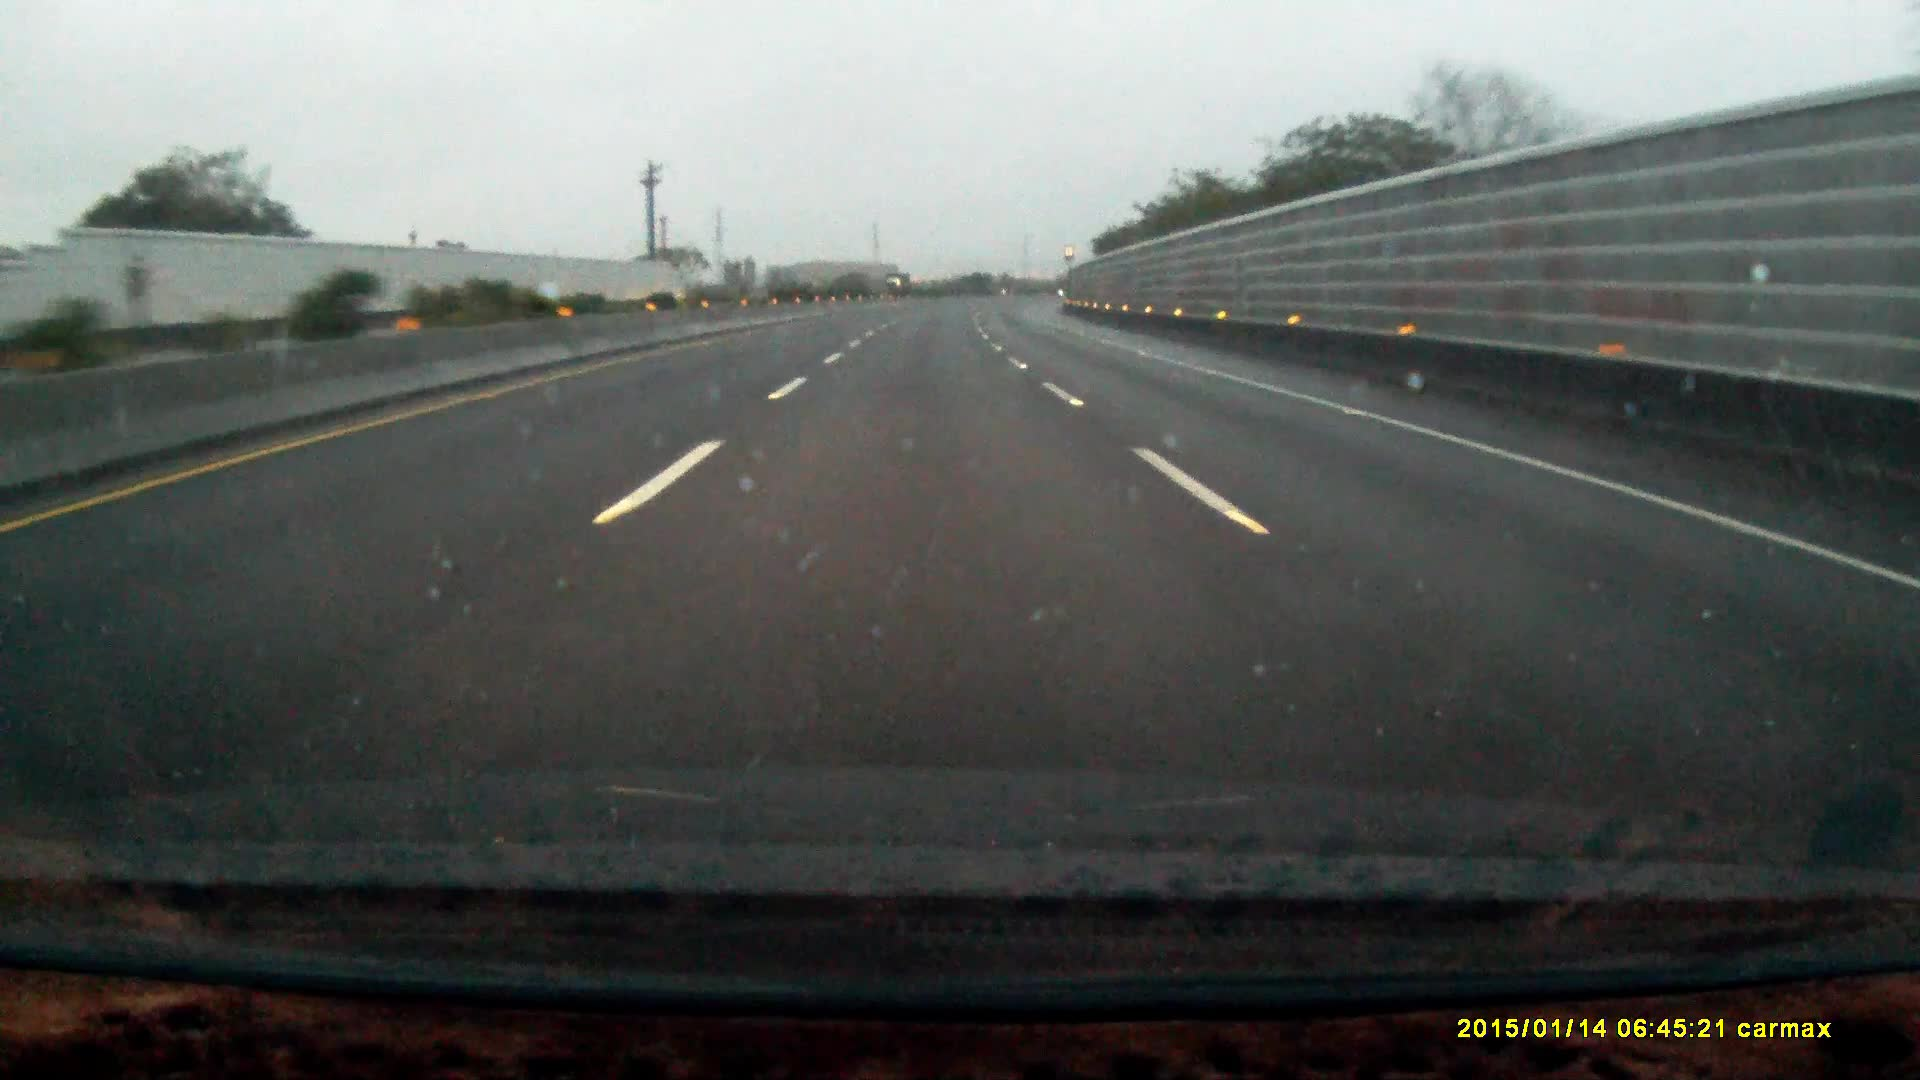vehicle: (885, 274, 913, 298)
